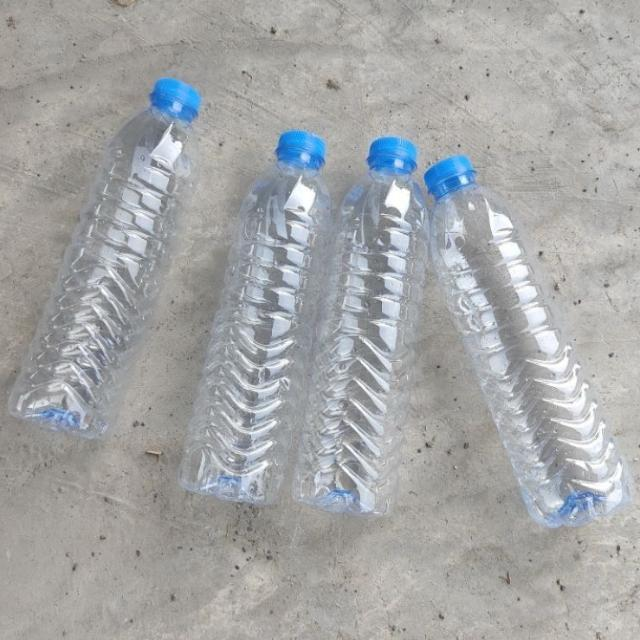PET Bottle: (4, 50, 202, 466), (421, 164, 640, 526), (296, 136, 464, 534), (189, 106, 325, 551)
